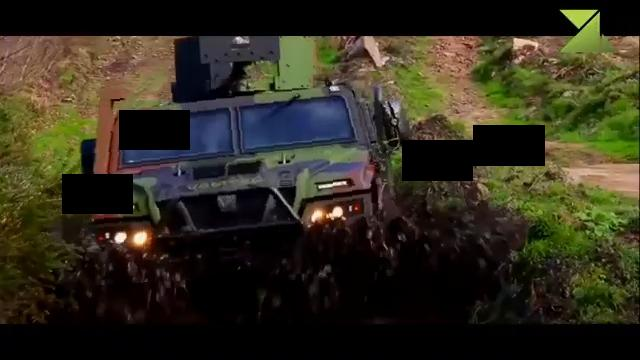MIL_HMMWV: (79, 73, 414, 281)
